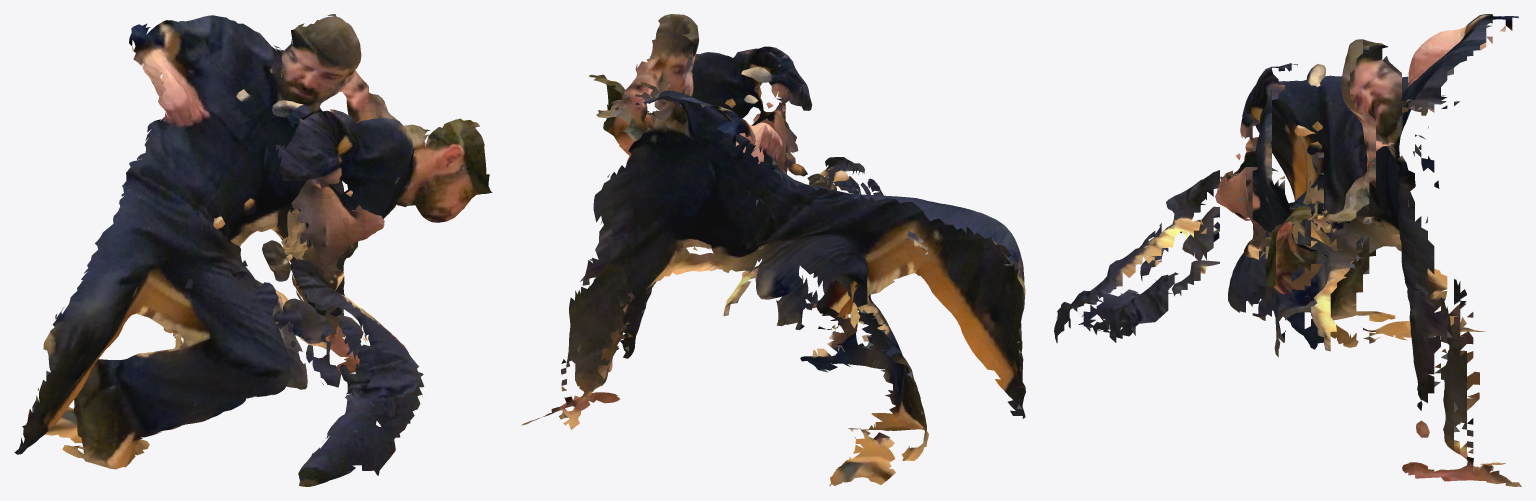
The model's file is gravity.glb.
3 views of the same model, side by side, from view 1: azimuth 30°, elevation 25°; view 2: azimuth 150°, elevation 25°; view 3: azimuth 270°, elevation 25° (orthographic). The views are drawn at different scales.
Parts seen in each view (by area): view 1: dacid; view 2: dacid; view 3: dacid.
Boxes of the visible parts, bbox=[...] form: dacid: bbox=[14, 14, 492, 486]; dacid: bbox=[521, 14, 1025, 486]; dacid: bbox=[1054, 14, 1521, 486].
Bounding box in the file's own units: 2.28 × 1.84 × 1.94.
1 material, 1 textured.
